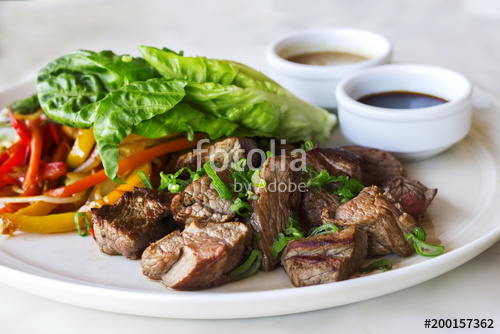chopped lettuce: (38, 41, 338, 167)
